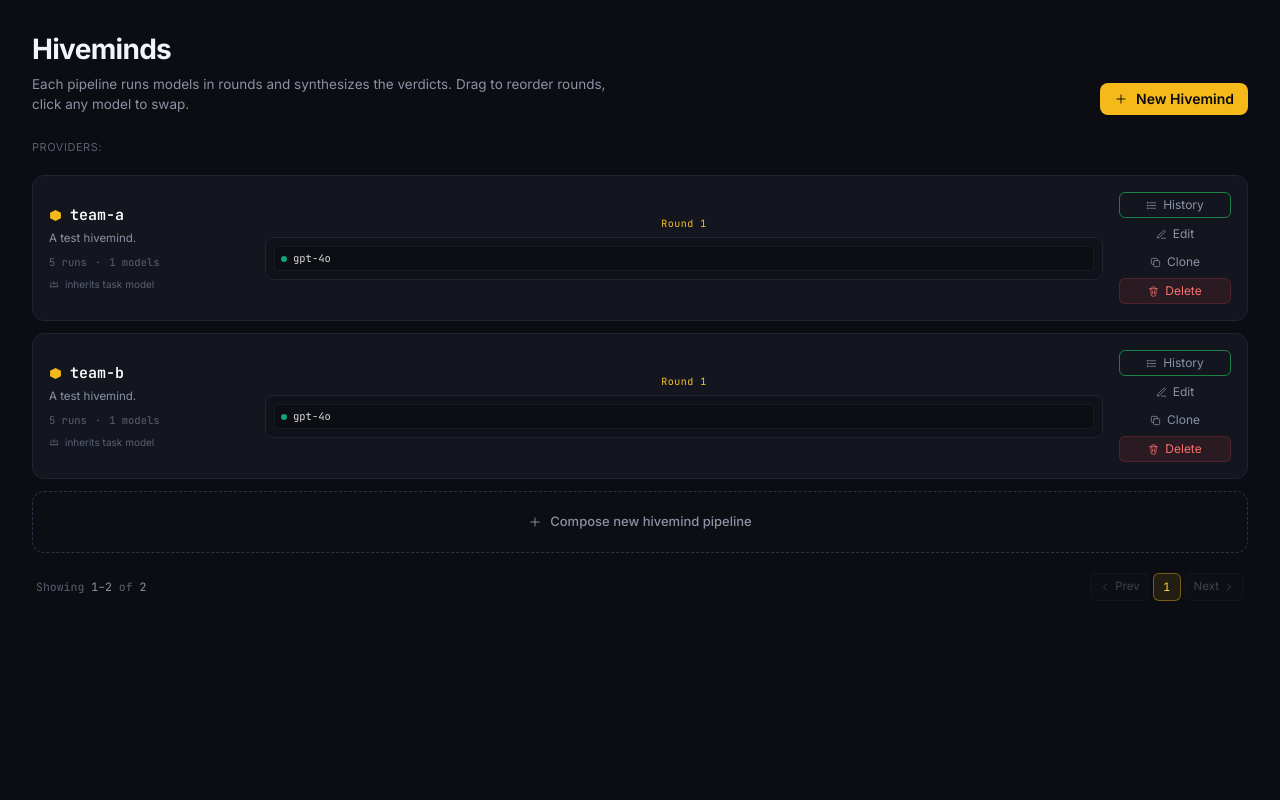
Scenario: HivemindsScreen › disables clone and delete actions on all cards while a clone is in flight
The width and height of the screenshot is (1280, 800).
Expected: the heading "team-a" is shown, x1=70 y1=204 x2=124 y2=227
Step 1. Click the 1st button "Clone" → (1175, 262), box x1=1119 y1=250 x2=1231 y2=274
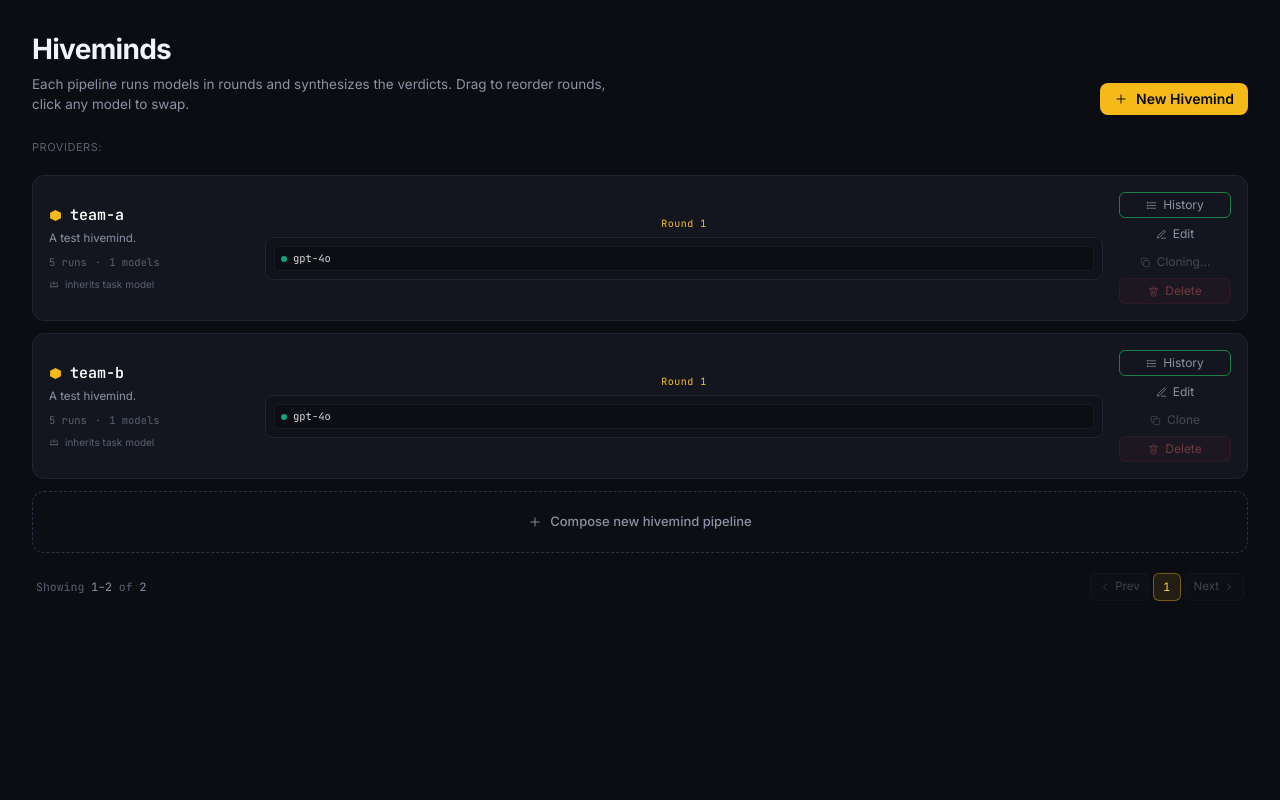
Expected: the button "Cloning..." is disabled, x1=1119 y1=250 x2=1231 y2=274
Expected: the button "Clone" is disabled, x1=1119 y1=408 x2=1231 y2=432
Expected: the 2nd button "Delete" is disabled, x1=1119 y1=436 x2=1231 y2=462
